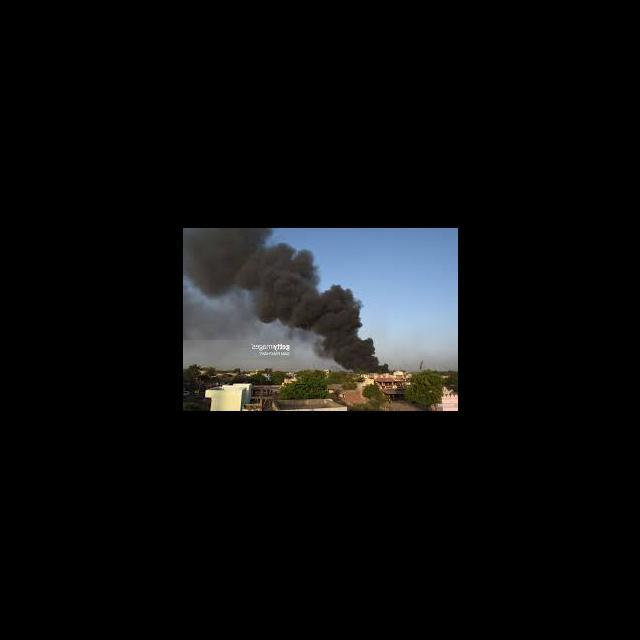Smoke: (184, 229, 393, 372)
